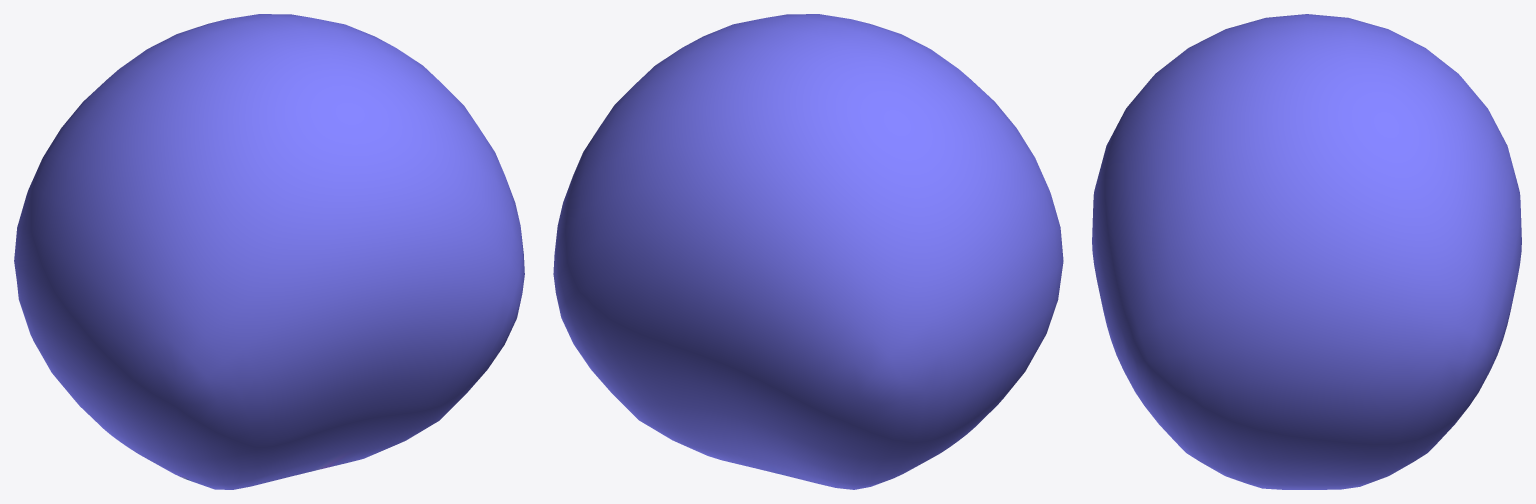
File: p_hvs_quest_ballooncrate_balloon_dissolve.fbx
3 renders of one model, left to right at view 1: azimuth 30°, elevation 25°; view 2: azimuth 150°, elevation 25°; view 3: azimuth 270°, elevation 25°, orthographic.
Visible parts, largest first — view 1: hvs_quest_ballooncrate_balloon_pose2; view 2: hvs_quest_ballooncrate_balloon_pose2; view 3: hvs_quest_ballooncrate_balloon_pose2.
Boxes of the visible parts, left/top/right/bottom form: hvs_quest_ballooncrate_balloon_pose2: left=14, top=14, right=524, bottom=489; hvs_quest_ballooncrate_balloon_pose2: left=553, top=14, right=1063, bottom=489; hvs_quest_ballooncrate_balloon_pose2: left=1092, top=14, right=1521, bottom=489.
Bounding box in the file's own units: 17.6 × 16.6 × 15.36.
